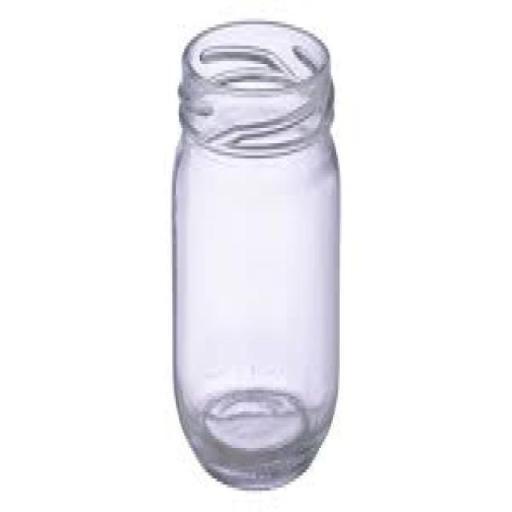glass: (145, 0, 359, 512)
